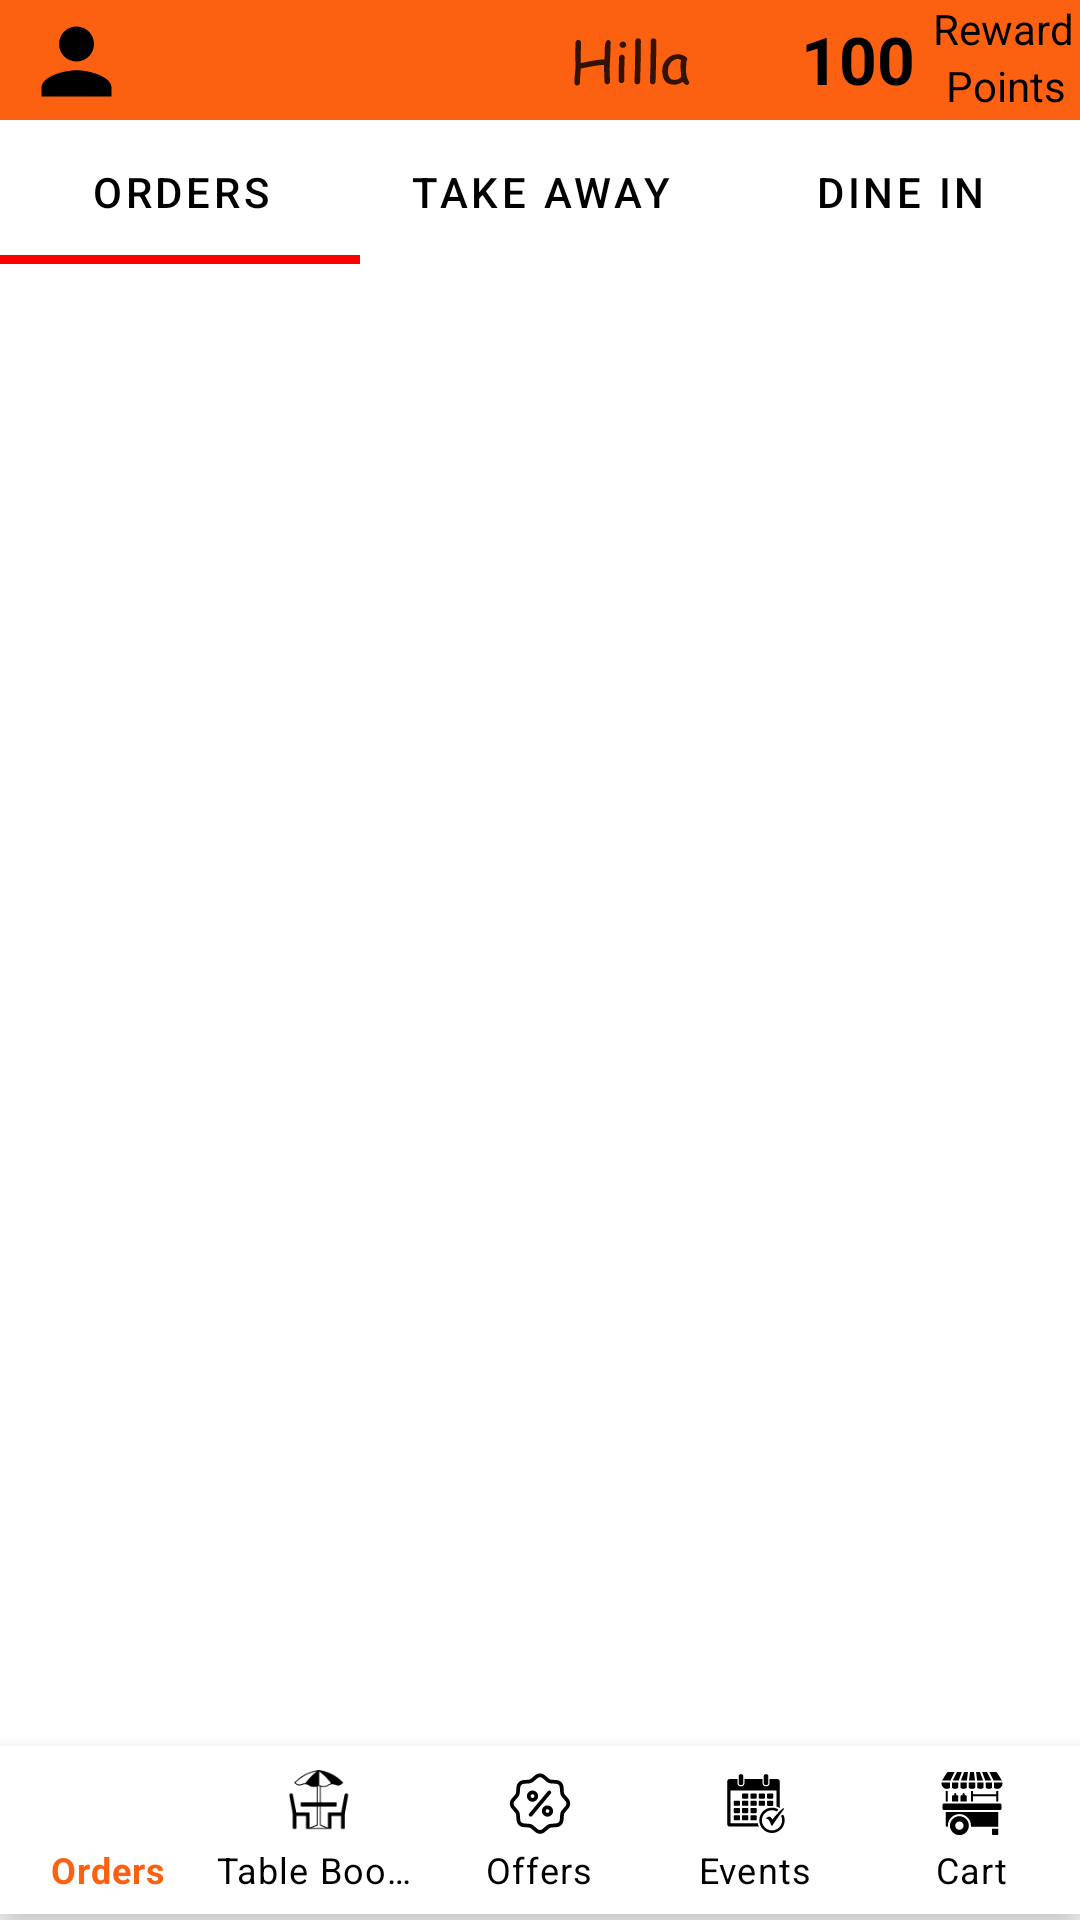

Screen size 1080px×1920px. Icon name, then its center in pixels as (x,y):
person: (76,61)
